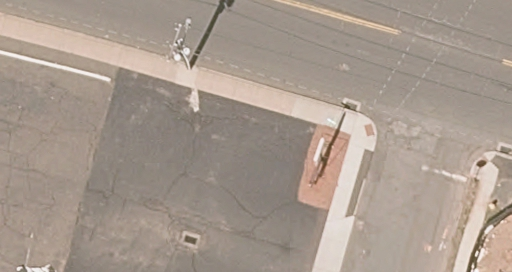DT: (165, 16, 195, 71)
